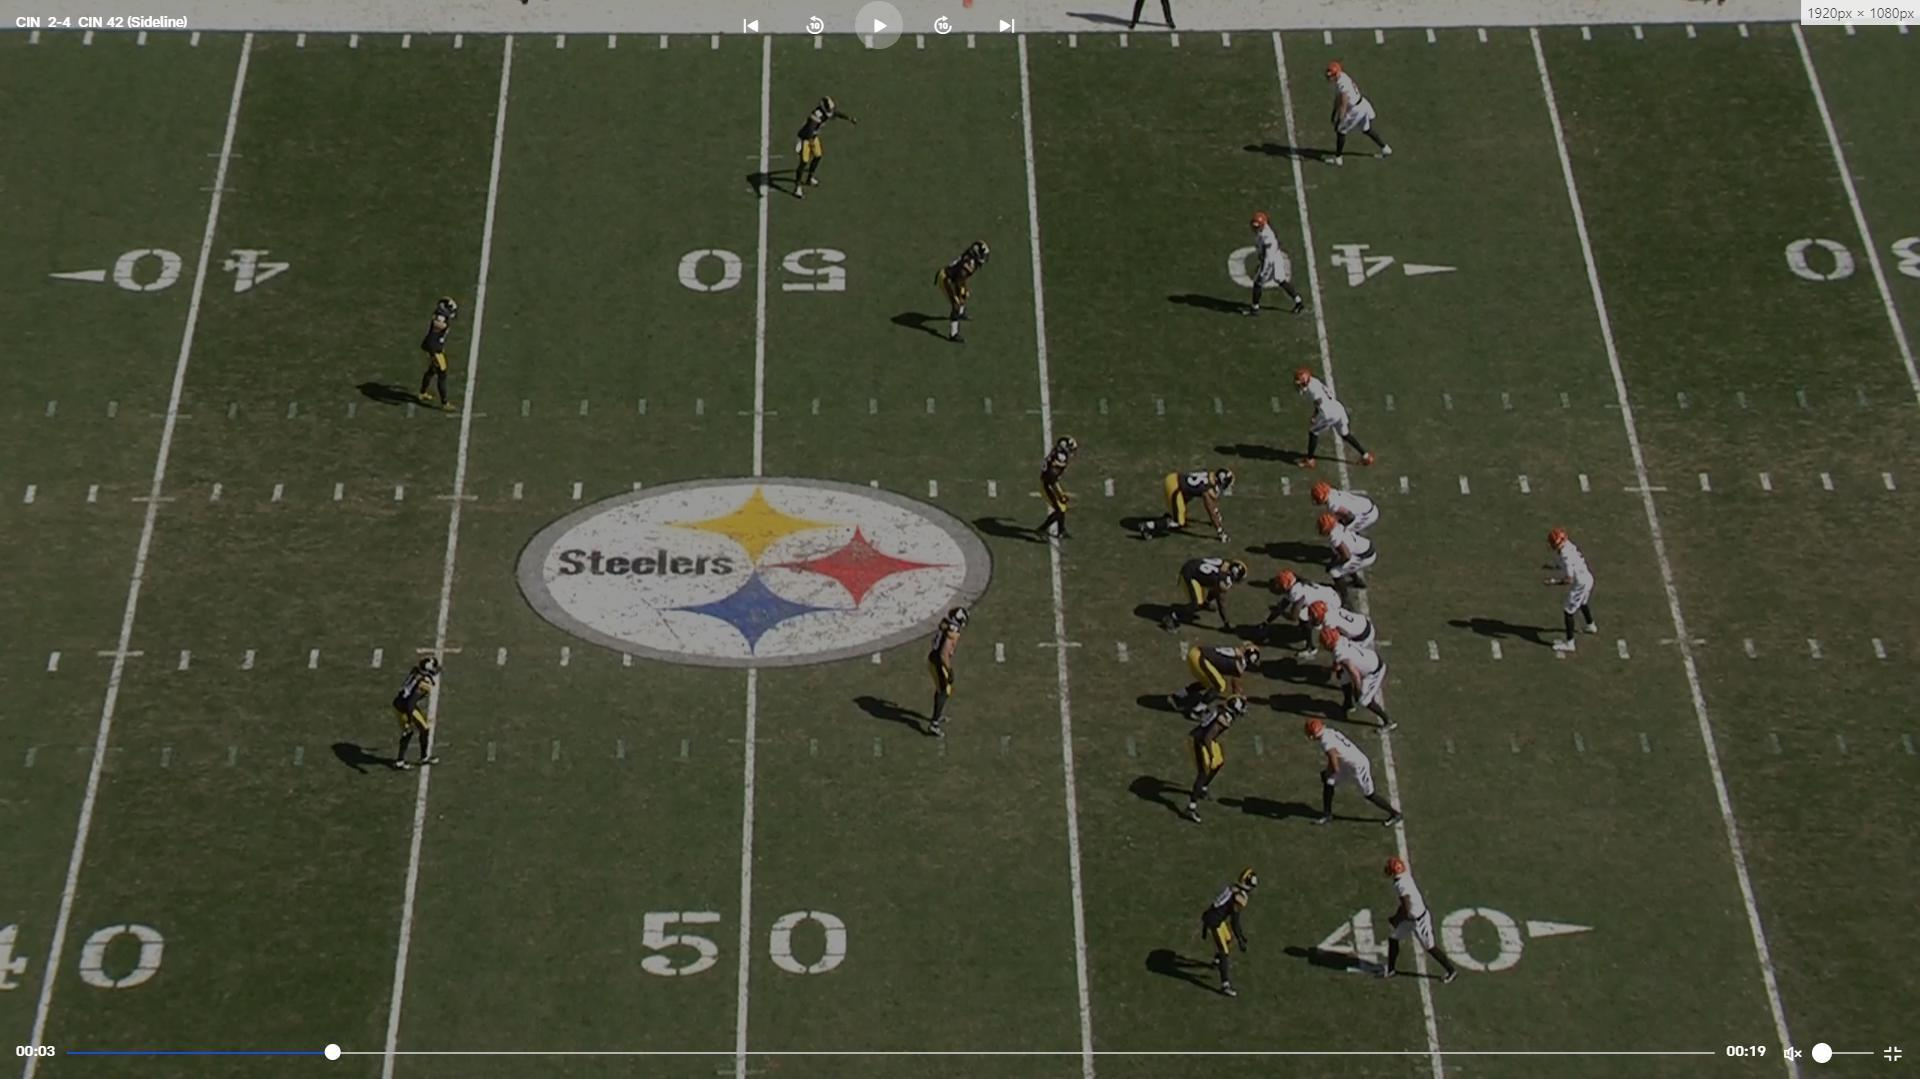player: (1305, 717, 1410, 830), (1380, 858, 1463, 993), (1317, 59, 1399, 176), (1190, 866, 1258, 1002), (1297, 367, 1381, 475), (1233, 206, 1310, 320), (1178, 688, 1238, 827), (1142, 462, 1240, 545), (1545, 527, 1606, 659), (1169, 640, 1262, 722), (389, 655, 450, 779), (932, 236, 995, 352), (1161, 553, 1250, 635), (1331, 632, 1399, 735), (414, 290, 467, 416), (790, 95, 848, 210), (922, 604, 970, 742), (1263, 568, 1341, 651), (1034, 429, 1083, 549), (1322, 516, 1383, 604), (1315, 482, 1383, 539), (1312, 603, 1378, 658)
ref: (1127, 0, 1189, 33)
